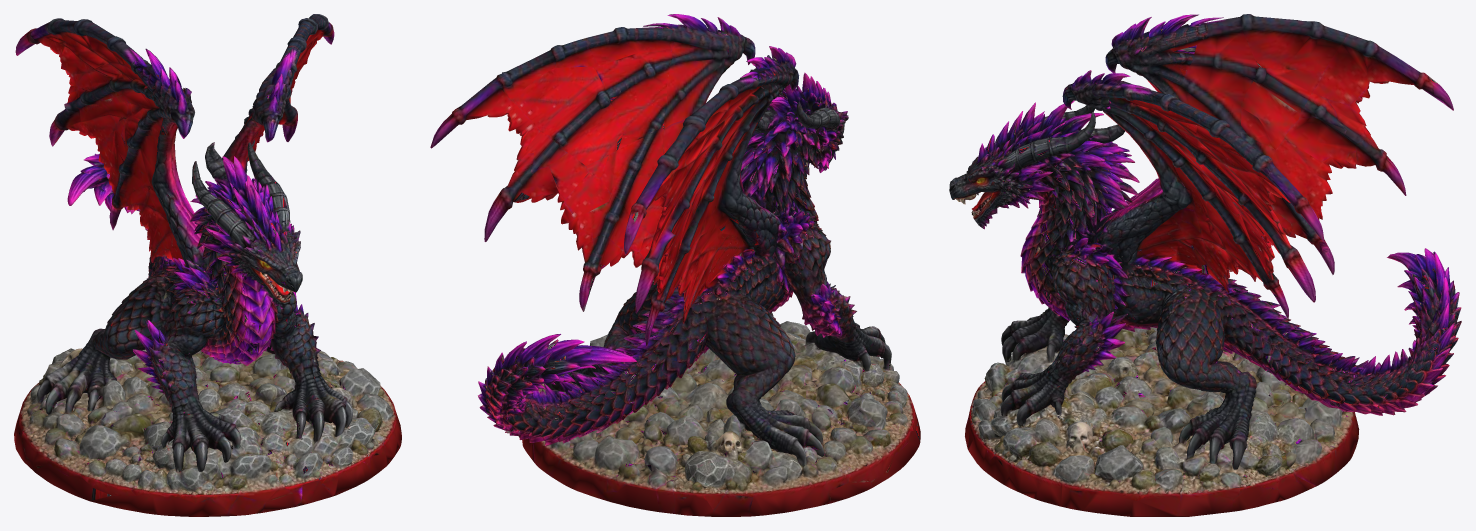
Rendered from blackDragon.glb.
3 renders of one model, left to right at view 1: azimuth 30°, elevation 25°; view 2: azimuth 150°, elevation 25°; view 3: azimuth 270°, elevation 25°, orthographic. The views are drawn at different scales.
Bounding box in the file's own units: 1.64 × 1.62 × 1.9.
1 material, 1 textured.
